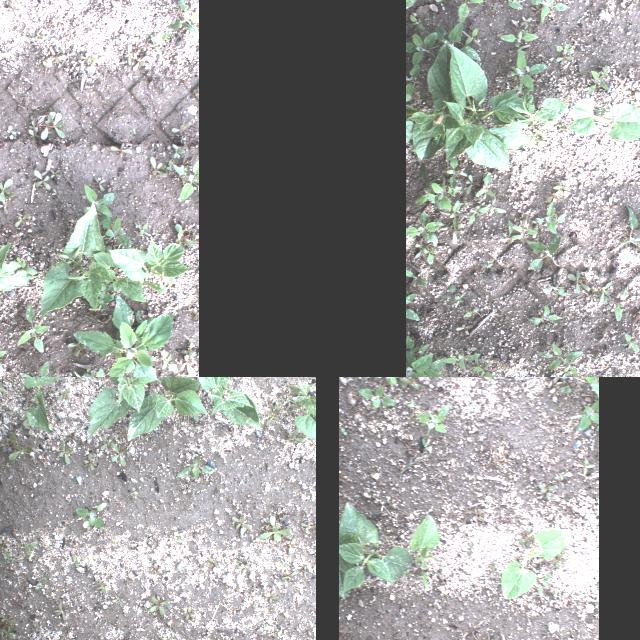crop: (407, 41, 528, 170), (40, 200, 114, 322), (339, 503, 411, 595), (484, 86, 570, 150), (126, 377, 209, 441), (501, 530, 572, 600), (83, 377, 159, 442), (0, 241, 41, 338), (93, 252, 167, 302), (108, 240, 192, 282), (198, 377, 264, 430), (566, 98, 640, 140), (23, 377, 62, 435), (287, 381, 315, 442), (339, 514, 359, 599), (410, 514, 440, 570)
weed: (71, 293, 175, 377), (255, 512, 299, 556), (16, 302, 52, 354), (434, 20, 480, 60), (507, 48, 547, 92), (414, 176, 462, 212), (406, 335, 446, 377), (537, 343, 584, 377), (609, 204, 640, 255), (165, 0, 198, 41), (524, 235, 560, 271), (545, 377, 598, 401), (175, 456, 218, 484), (27, 111, 65, 141), (74, 501, 108, 534), (406, 211, 446, 239), (83, 184, 115, 218), (525, 0, 569, 24), (418, 404, 450, 436), (407, 33, 438, 66), (448, 0, 493, 22), (534, 202, 564, 234), (100, 434, 128, 468), (441, 154, 467, 190), (102, 216, 132, 247), (0, 427, 28, 460), (442, 348, 480, 372), (179, 160, 199, 204), (357, 386, 395, 408), (146, 588, 172, 618), (526, 304, 564, 324), (173, 222, 197, 252), (577, 399, 599, 431), (0, 177, 17, 217), (509, 218, 539, 240), (51, 438, 73, 468), (588, 66, 610, 94), (15, 359, 49, 377), (180, 338, 195, 377), (147, 31, 171, 55), (155, 350, 179, 374), (450, 200, 468, 232), (542, 273, 568, 295), (476, 198, 506, 216), (475, 173, 495, 199), (228, 511, 254, 531), (498, 30, 540, 42), (568, 270, 588, 294), (406, 63, 418, 101), (32, 170, 52, 192), (518, 526, 536, 550), (0, 612, 15, 640), (150, 154, 167, 178), (162, 159, 184, 177), (289, 424, 307, 446), (614, 289, 626, 321), (171, 120, 191, 138), (621, 333, 639, 353), (461, 28, 481, 46), (406, 268, 426, 286), (280, 565, 300, 583), (236, 554, 254, 574), (261, 589, 281, 607), (50, 600, 68, 620), (473, 361, 495, 377), (422, 244, 438, 266), (264, 405, 280, 427), (100, 284, 112, 312), (82, 451, 96, 475), (132, 56, 150, 74), (135, 221, 153, 239), (20, 540, 38, 558), (57, 46, 77, 62), (553, 176, 569, 196), (34, 574, 50, 594), (400, 457, 420, 473), (576, 459, 596, 475), (406, 294, 418, 320), (1, 548, 16, 568), (124, 44, 136, 68), (108, 143, 132, 155), (12, 213, 30, 229), (81, 369, 117, 377), (170, 526, 186, 544), (54, 386, 72, 402), (0, 336, 7, 376), (598, 282, 612, 302), (400, 377, 420, 391), (178, 606, 195, 622), (538, 573, 550, 595), (109, 593, 125, 609), (92, 174, 106, 192), (556, 52, 574, 66), (465, 176, 479, 194), (440, 284, 454, 302), (369, 377, 405, 384), (172, 144, 186, 160), (410, 14, 424, 30), (301, 518, 315, 534), (468, 204, 479, 224), (556, 43, 574, 55), (538, 484, 550, 501), (552, 554, 566, 568), (407, 398, 421, 412), (95, 580, 107, 596), (400, 377, 414, 390), (48, 168, 62, 180), (416, 572, 428, 586), (404, 412, 416, 426), (463, 307, 479, 317), (456, 324, 472, 334), (69, 555, 79, 569), (487, 560, 498, 572), (540, 486, 556, 494), (250, 596, 260, 608), (412, 568, 424, 578), (374, 608, 386, 618), (130, 485, 138, 499), (466, 542, 474, 556), (422, 438, 431, 450), (400, 570, 410, 580), (478, 510, 486, 522), (556, 472, 568, 480), (560, 386, 572, 394), (304, 628, 312, 638), (542, 559, 552, 567), (559, 545, 567, 555), (464, 408, 481, 412), (341, 428, 347, 436), (371, 542, 381, 546), (511, 377, 522, 380), (554, 590, 558, 598), (397, 393, 403, 397), (524, 415, 528, 419), (596, 425, 598, 431)
